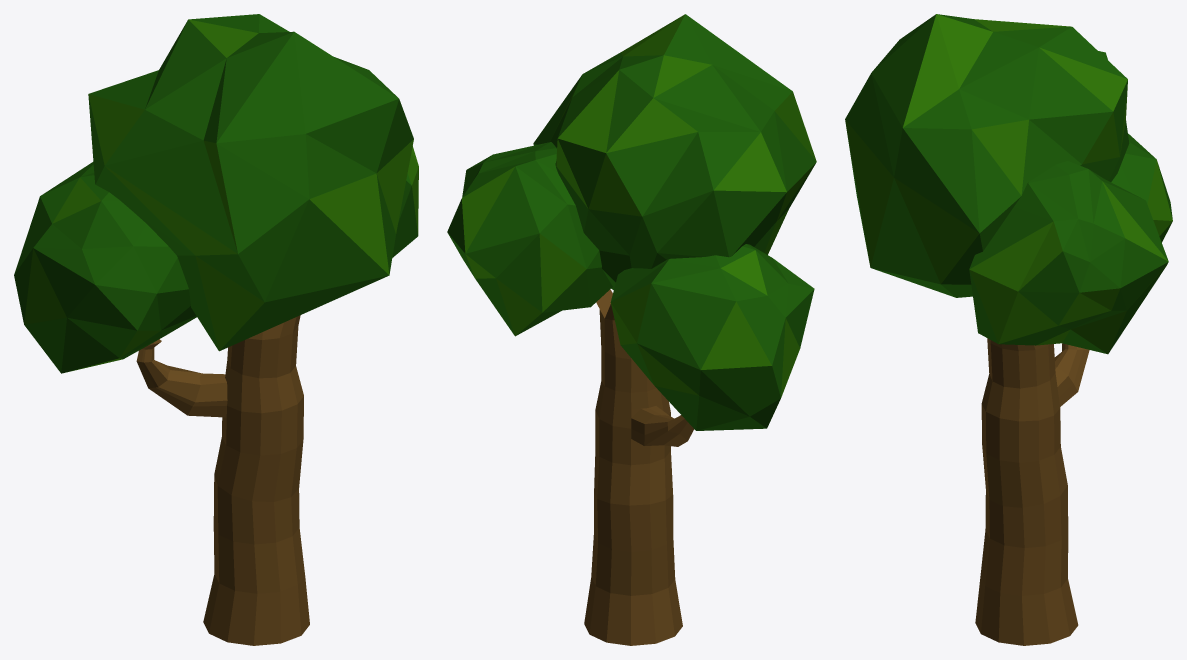
File: Tree01.fbx
3 renders of one model, left to right at view 1: azimuth 30°, elevation 25°; view 2: azimuth 150°, elevation 25°; view 3: azimuth 270°, elevation 25°, orthographic. The views are drawn at different scales.
Parts seen in each view (by area): view 1: Tree; view 2: Tree; view 3: Tree.
Boxes of the visible parts, x1,y1,x2,y2 form: Tree: [14, 14, 418, 645]; Tree: [447, 14, 816, 645]; Tree: [845, 14, 1172, 645].
Bounding box in the file's own units: 202 × 339 × 166.
